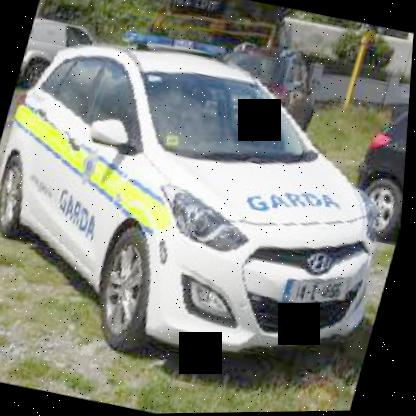emergency: (0, 2, 415, 397)
